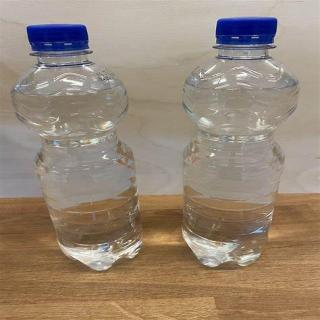Anorganik: (14, 20, 158, 269), (180, 13, 292, 275)
